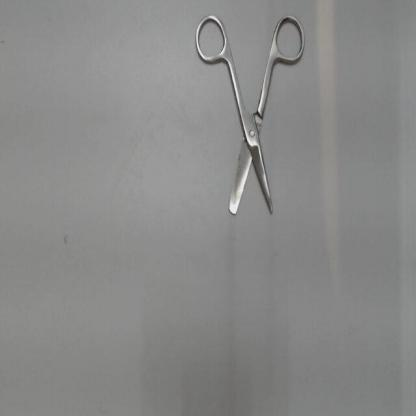Dressing Scissors: (183, 3, 315, 228)
